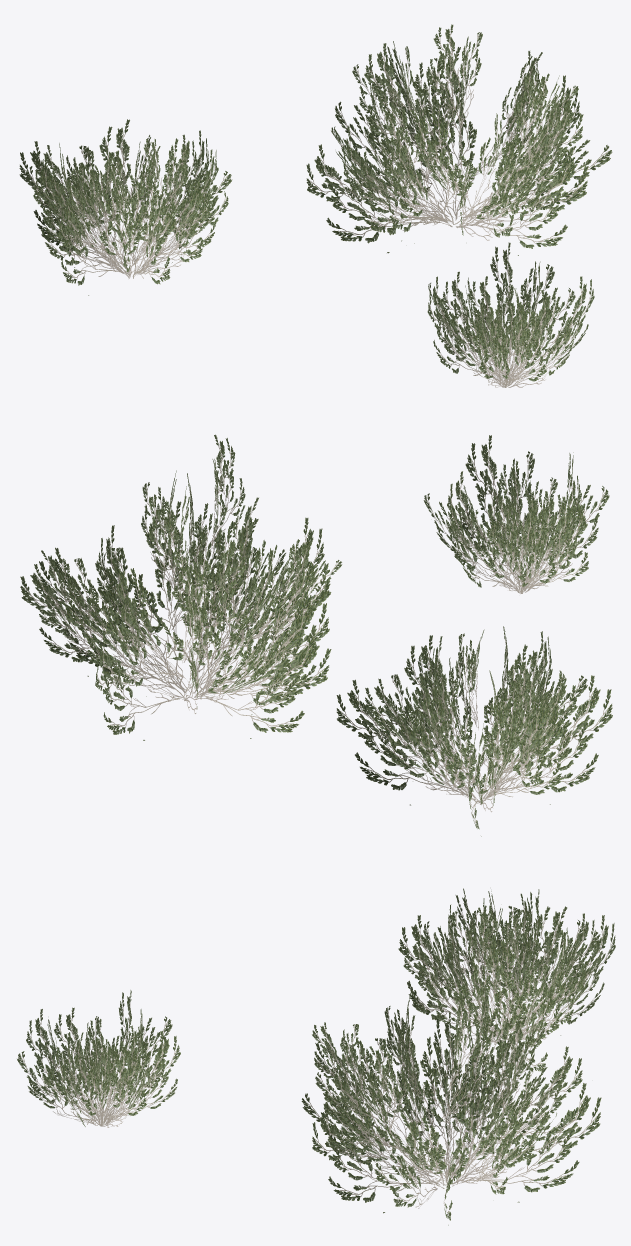
File: plant-3.glb
3 renders of one model, top to bottom at view 1: azimuth 30°, elevation 25°; view 2: azimuth 150°, elevation 25°; view 3: azimuth 270°, elevation 25°, orthographic. The views are drawn at different scales.
Parts seen in each view (by area): view 1: creosote branch 02_7_creosote branch 02_7Mat_0; view 2: creosote branch 02_7_creosote branch 02_7Mat_0; view 3: creosote branch 02_7_creosote branch 02_7Mat_0.
Part boxes in pixels (x1=…): creosote branch 02_7_creosote branch 02_7Mat_0: x1=19, y1=24, x2=612, y2=387; creosote branch 02_7_creosote branch 02_7Mat_0: x1=20, y1=434, x2=612, y2=836; creosote branch 02_7_creosote branch 02_7Mat_0: x1=17, y1=888, x2=615, y2=1225.
Bounding box in the file's own units: 2.62 × 1.1 × 2.64.
Materials: 1 (1 with a texture image).
